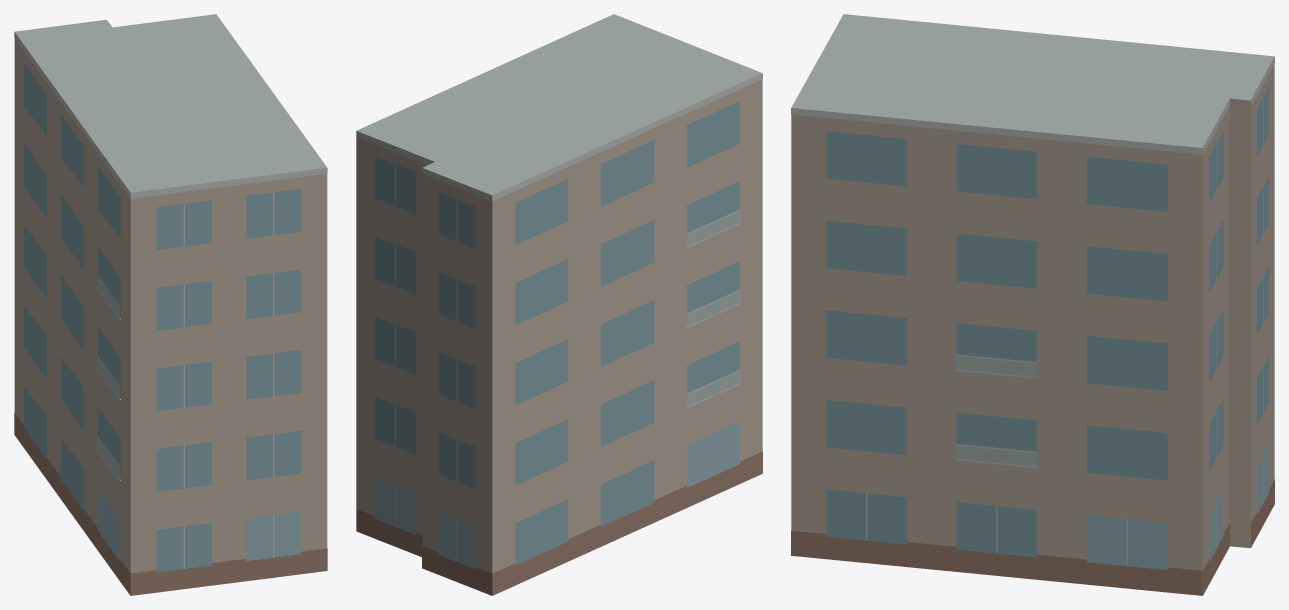
File: survey-upis-32662936.glb
3 views of the same model, side by side, from view 1: azimuth 30°, elevation 25°; view 2: azimuth 150°, elevation 25°; view 3: azimuth 270°, elevation 25° (orthographic). The views are drawn at different scales.
Parts seen in each view (by area): view 1: survey-upis-32662936.tmp; view 2: survey-upis-32662936.tmp; view 3: survey-upis-32662936.tmp.
Part boxes in pixels (x1,y1,x2,y2): survey-upis-32662936.tmp: [14, 14, 327, 595]; survey-upis-32662936.tmp: [356, 14, 762, 595]; survey-upis-32662936.tmp: [791, 14, 1274, 595].
Bounding box in the file's own units: 10.54 × 16.4 × 16.06.
